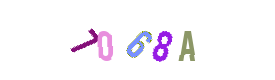6: (97, 0, 177, 80)
7: (76, 0, 156, 80)
8: (98, 0, 178, 80)
A: (138, 0, 218, 80)
O: (94, 0, 174, 80)
